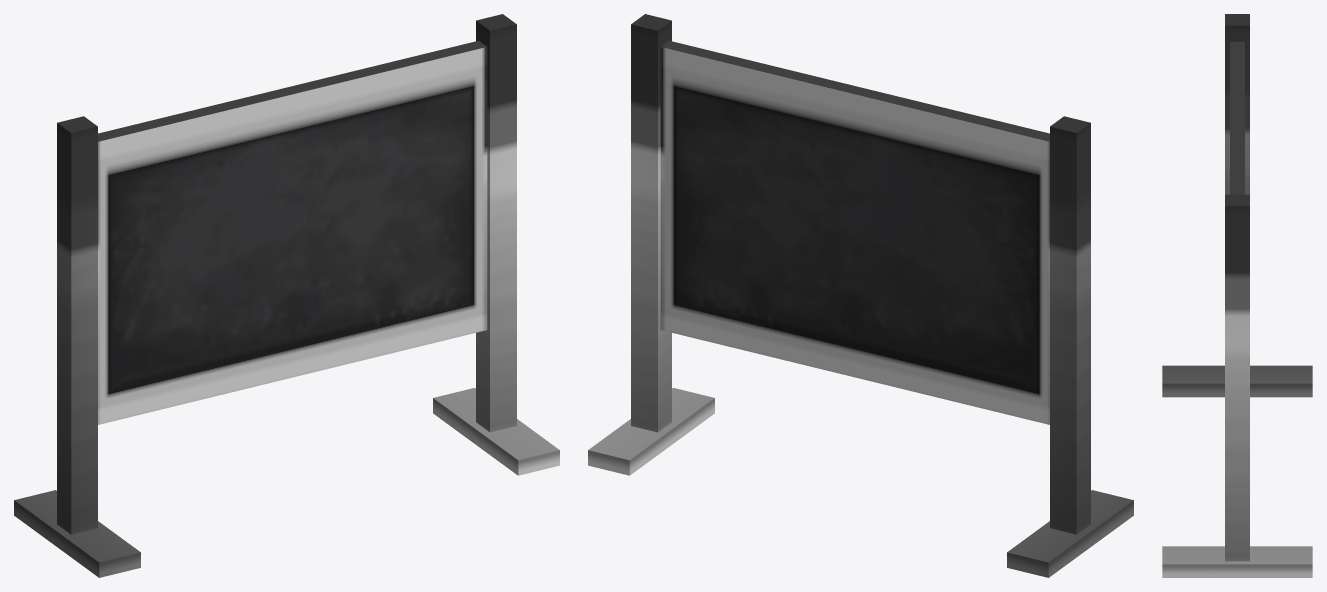
Rendered from Building_Blackboard.obj.
The picture shows the model from 3 angles, left to right: view 1: azimuth 30°, elevation 25°; view 2: azimuth 150°, elevation 25°; view 3: azimuth 270°, elevation 25°; orthographic projection. The views are drawn at different scales.
Parts seen in each view (by area): view 1: Body; view 2: Body; view 3: Body.
Part boxes in pixels (<box>): Body: <box>14,14,559,577</box>; Body: <box>588,14,1133,577</box>; Body: <box>1162,14,1312,577</box>.
Size of the model in its own units: 1.87 by 1.62 by 0.6.
1 material, 1 textured.
